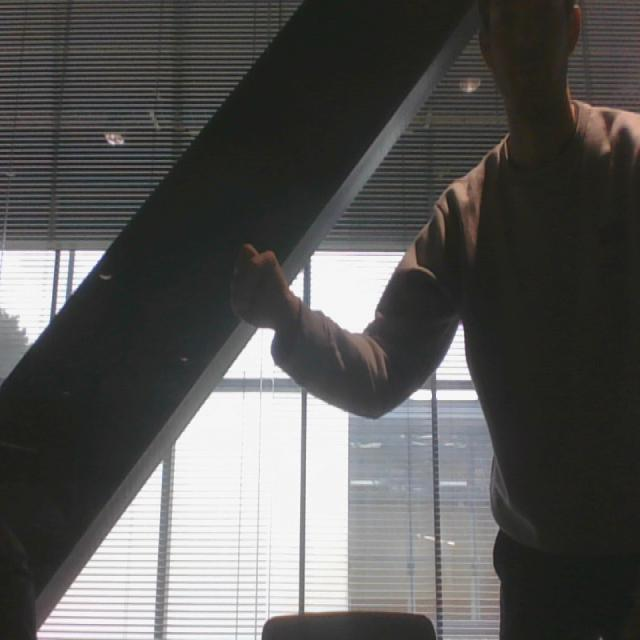stop: (222, 233, 293, 340)
